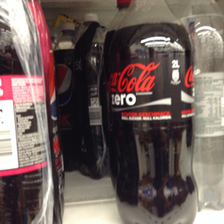soda: (101, 1, 198, 224), (1, 1, 63, 224), (72, 13, 109, 177)
